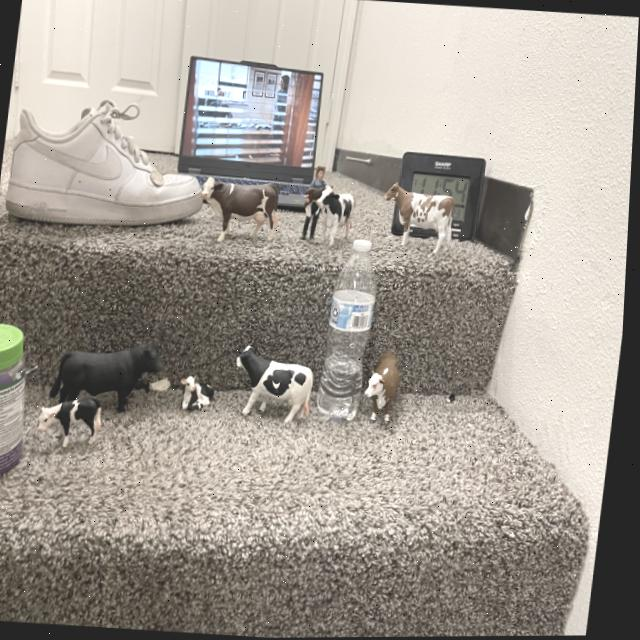cow: (48, 340, 173, 421), (233, 344, 321, 425), (375, 181, 463, 258), (203, 181, 281, 242), (39, 394, 109, 450), (362, 349, 411, 426), (313, 186, 359, 249), (184, 375, 219, 412), (302, 186, 325, 225)
person: (311, 165, 330, 190)
